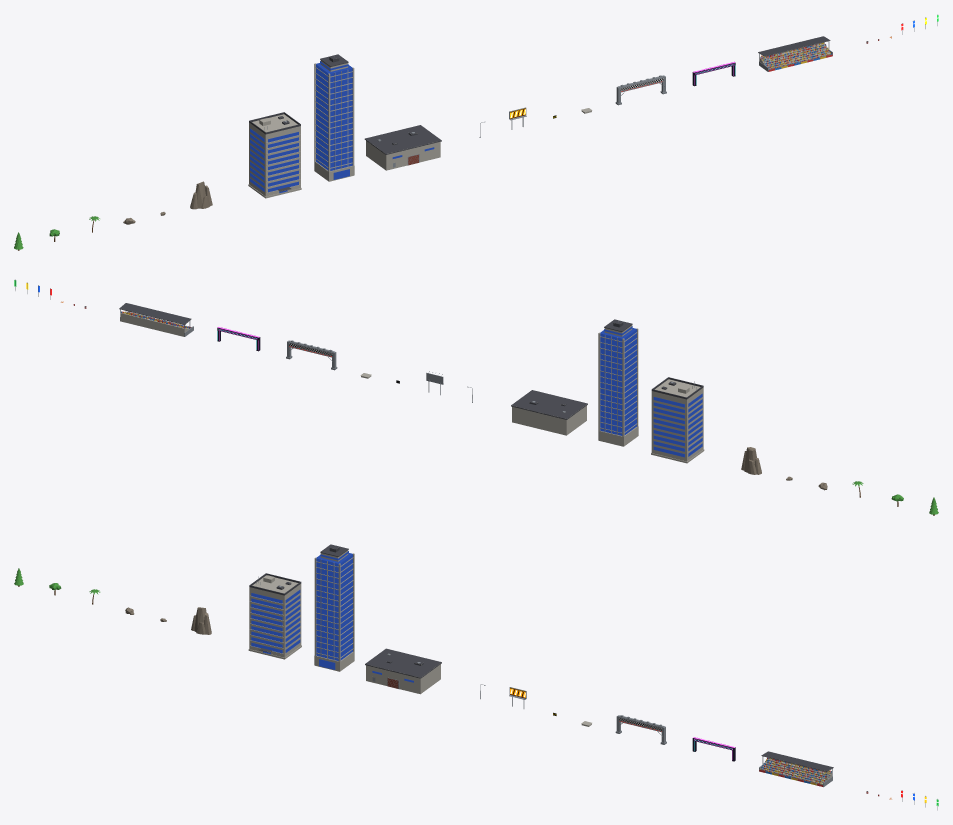
Rendered from props.glb.
3 views of the same model, one above another, from view 1: azimuth 30°, elevation 25°; view 2: azimuth 150°, elevation 25°; view 3: azimuth 330°, elevation 25° (orthographic).
Visible parts, largest first — view 1: Building_B_Mesh, Building_A_Mesh, Building_C_Mesh, Grandstand_Mesh, Gantry_Mesh; view 2: Building_B_Mesh, Building_A_Mesh, Building_C_Mesh, Grandstand_Mesh, Gantry_Mesh; view 3: Building_B_Mesh, Building_A_Mesh, Building_C_Mesh, Grandstand_Mesh.
Boxes of the visible parts, x1=… form: Building_B_Mesh: x1=314, y1=54, x2=354, y2=181; Building_A_Mesh: x1=248, y1=112, x2=301, y2=198; Building_C_Mesh: x1=364, y1=125, x2=441, y2=170; Grandstand_Mesh: x1=758, y1=36, x2=832, y2=71; Gantry_Mesh: x1=615, y1=75, x2=666, y2=105; Building_B_Mesh: x1=598, y1=319, x2=638, y2=446; Building_A_Mesh: x1=651, y1=377, x2=704, y2=463; Building_C_Mesh: x1=511, y1=390, x2=587, y2=435; Grandstand_Mesh: x1=119, y1=303, x2=193, y2=336; Gantry_Mesh: x1=286, y1=340, x2=337, y2=370; Building_B_Mesh: x1=314, y1=544, x2=354, y2=671; Building_A_Mesh: x1=248, y1=573, x2=301, y2=659; Building_C_Mesh: x1=365, y1=648, x2=441, y2=694; Grandstand_Mesh: x1=759, y1=751, x2=833, y2=787.
Bounding box in the file's own units: 577 × 70.2 × 23.4.
